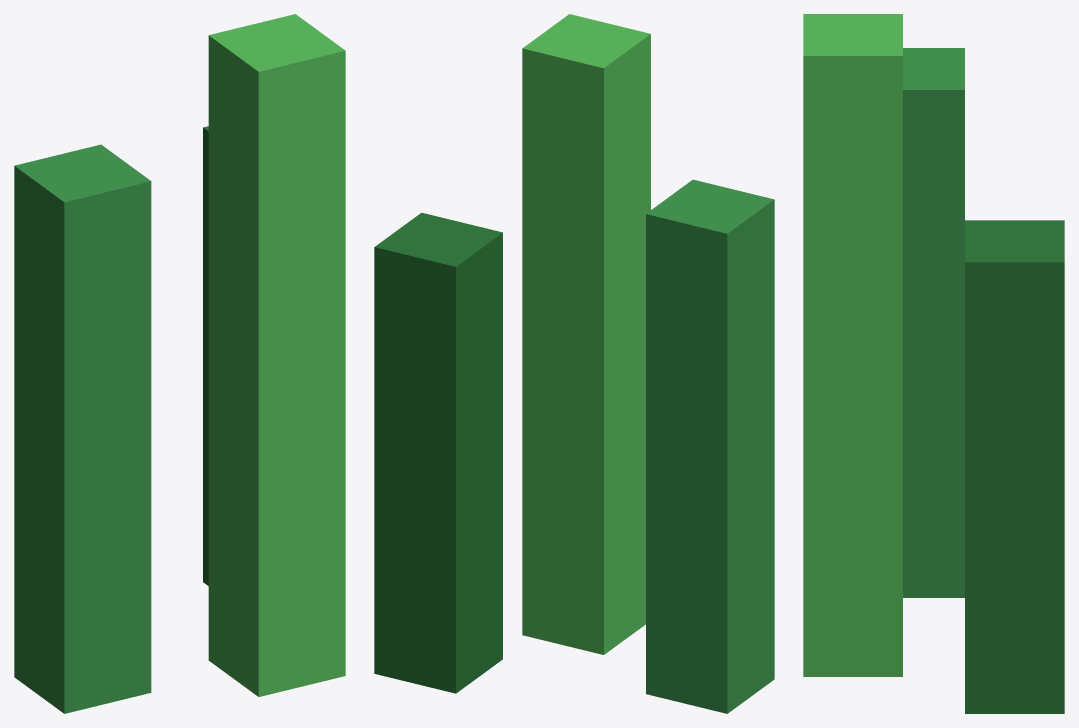
File: grass_tuft.glb
3 views of the same model, side by side, from view 1: azimuth 30°, elevation 25°; view 2: azimuth 150°, elevation 25°; view 3: azimuth 270°, elevation 25° (orthographic). The views are drawn at different scales.
Visible parts, largest first — view 1: grass_tuft; view 2: grass_tuft; view 3: grass_tuft.
Boxes of the visible parts, <box> form: grass_tuft: <box>14,14,345,713</box>; grass_tuft: <box>374,14,774,713</box>; grass_tuft: <box>803,14,1064,713</box>.
Bounding box in the file's own units: 0.3 × 0.55 × 0.21.
